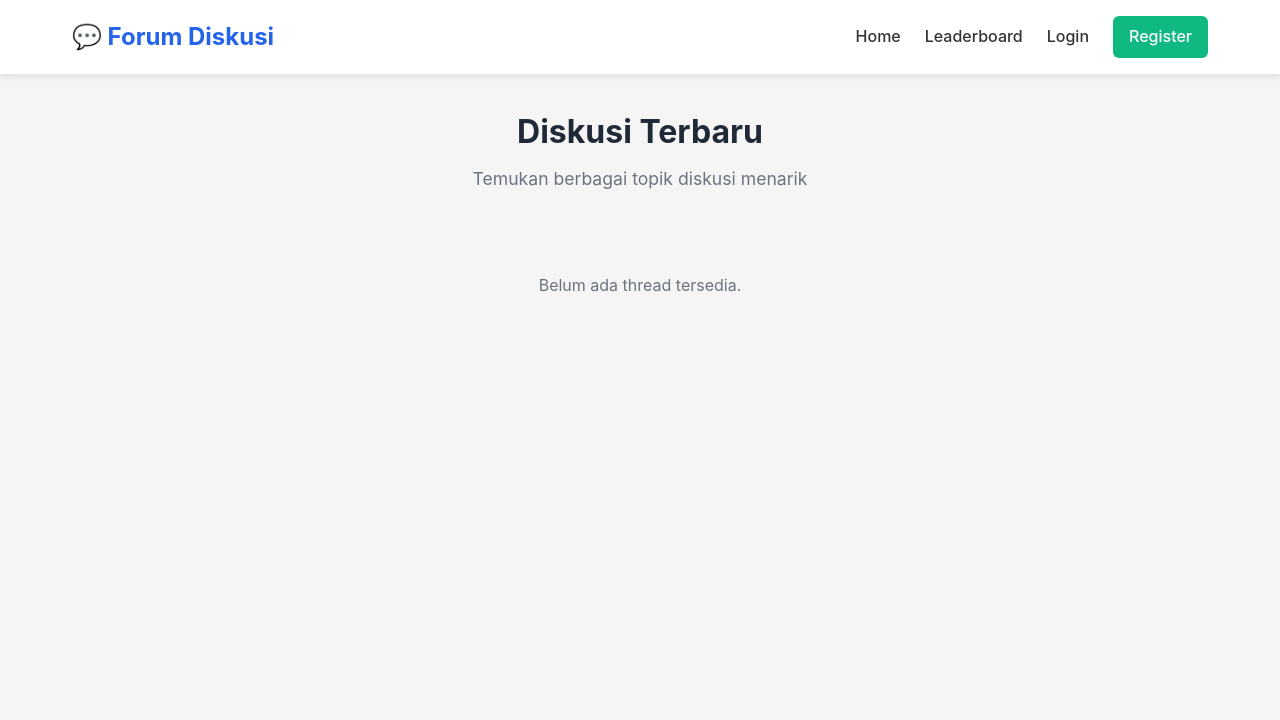
Test: Login Flow › should display login page correctly
Click the link "Login".
click(1068, 37)  # box x1=1047 y1=24 x2=1089 y2=50
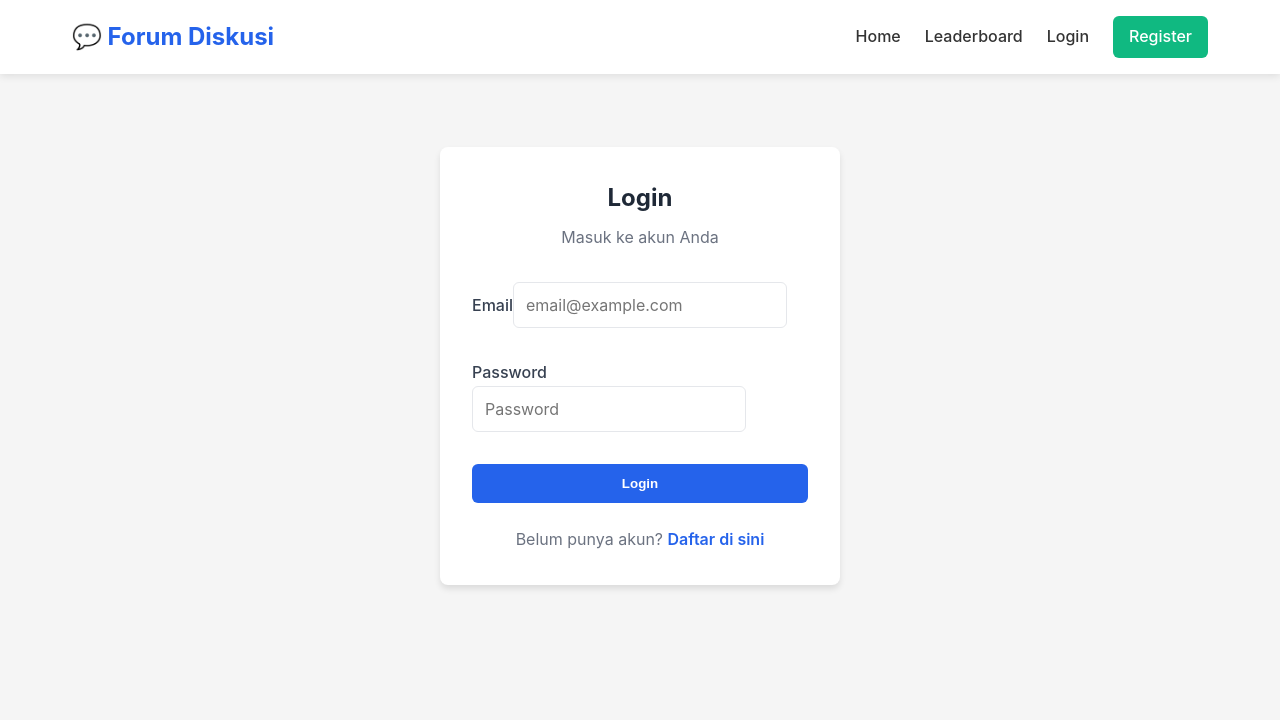
Check: the text "Masuk ke akun Anda" is shown, box x1=561 y1=227 x2=719 y2=247
Check: the field labelled "Email" is shown, box x1=513 y1=282 x2=787 y2=328
Check: the password field with placeholder "Password" is shown, box x1=472 y1=386 x2=746 y2=432
